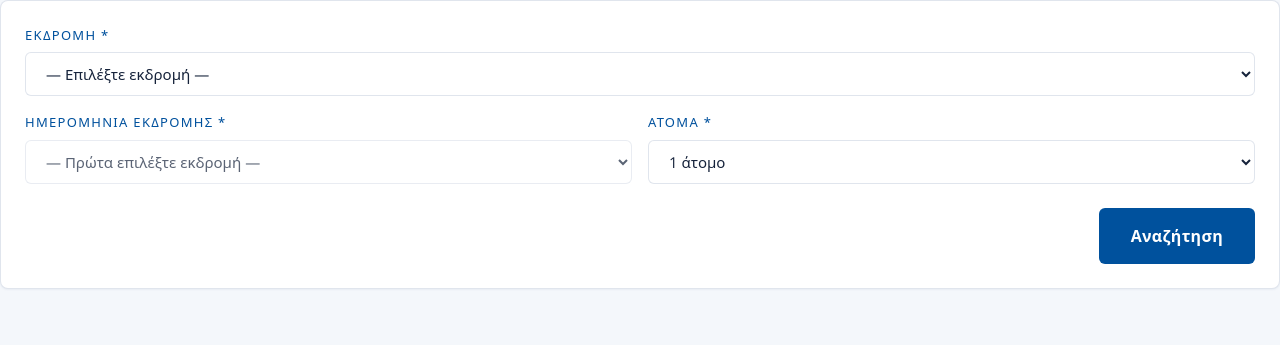
Test case: ExcursionSearchForm › υποβολή χωρίς εκδρομή δείχνει σφάλμα
This screenshot has width=1280, height=345.
Click the button "Αναζήτηση" at (1177, 236), box x1=1099 y1=208 x2=1255 y2=264
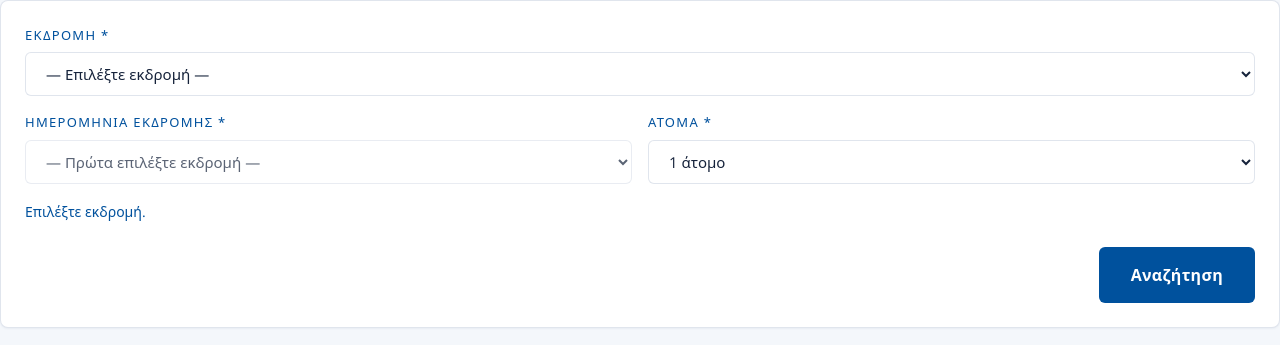
Result: the text "Επιλέξτε εκδρομή." is shown at x1=25 y1=202 x2=146 y2=221
